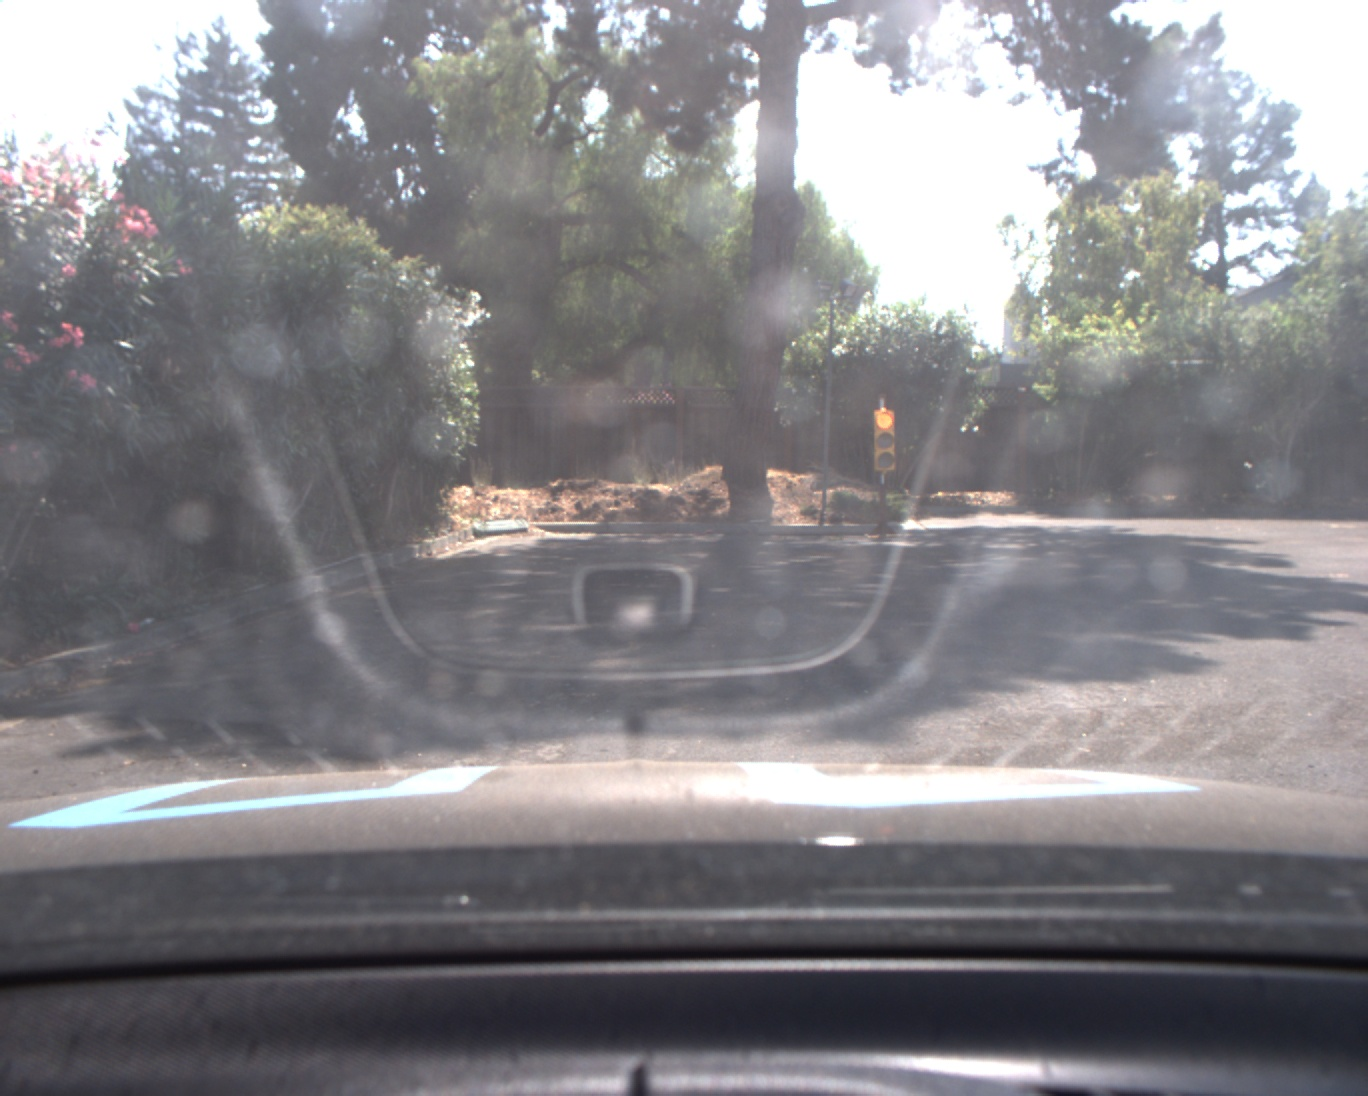red: (874, 408, 893, 471)
